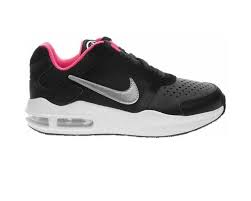nike: (69, 73, 141, 107)
